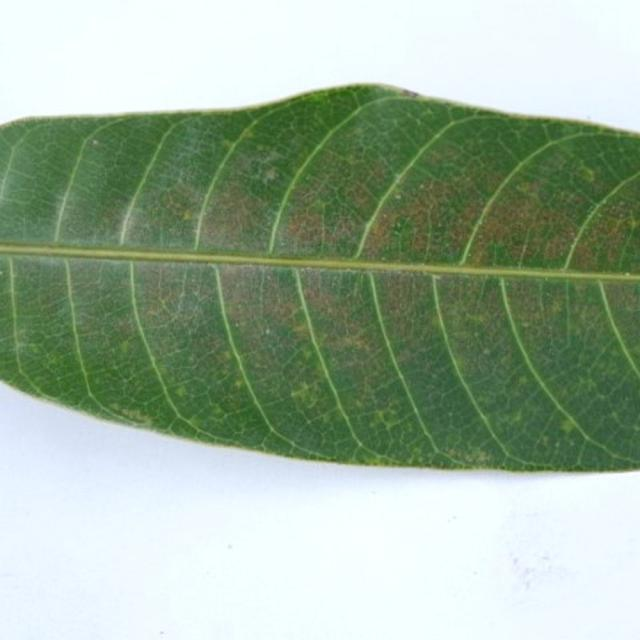Mango: (0, 86, 639, 470)
Powdery_Mildew: (176, 166, 284, 248), (480, 232, 616, 270), (494, 271, 565, 342), (182, 359, 260, 423), (508, 178, 559, 269), (585, 274, 640, 336), (1, 164, 61, 220), (562, 206, 597, 268), (257, 427, 312, 457), (386, 213, 419, 250), (483, 238, 522, 265), (119, 205, 141, 246), (336, 331, 370, 351), (296, 265, 336, 282), (258, 148, 286, 171), (535, 122, 561, 146), (555, 414, 585, 433), (377, 409, 402, 430), (397, 258, 440, 269), (120, 407, 150, 422), (359, 452, 396, 464), (502, 407, 524, 426), (290, 383, 313, 401), (130, 413, 156, 427), (576, 165, 596, 182), (519, 181, 541, 196), (45, 353, 64, 369), (291, 321, 312, 335), (467, 312, 490, 324), (581, 376, 597, 392), (473, 230, 488, 247), (299, 345, 315, 360), (263, 167, 279, 182), (302, 413, 318, 428), (472, 450, 490, 463), (374, 408, 390, 422), (220, 138, 237, 150), (377, 252, 395, 263), (188, 415, 203, 428), (310, 197, 326, 209), (344, 153, 358, 166), (612, 410, 625, 424), (119, 340, 131, 355), (351, 126, 366, 138), (400, 89, 420, 97), (211, 404, 224, 416), (434, 220, 446, 232), (174, 386, 187, 397), (233, 378, 246, 389), (321, 413, 334, 424), (615, 208, 628, 219), (27, 342, 41, 352), (518, 375, 530, 386), (627, 218, 638, 230), (182, 209, 193, 220), (221, 351, 233, 361), (354, 398, 365, 407), (392, 228, 402, 237), (635, 280, 640, 297), (393, 221, 402, 230), (633, 219, 640, 230), (178, 292, 186, 301), (483, 348, 491, 355), (92, 139, 100, 146), (208, 262, 217, 268), (554, 441, 561, 448), (619, 200, 626, 207), (433, 275, 441, 281), (382, 212, 388, 220), (235, 322, 241, 329), (395, 194, 401, 200), (265, 329, 271, 335), (420, 184, 425, 190), (381, 256, 387, 261), (586, 116, 592, 121), (636, 425, 640, 432), (0, 271, 4, 276)
